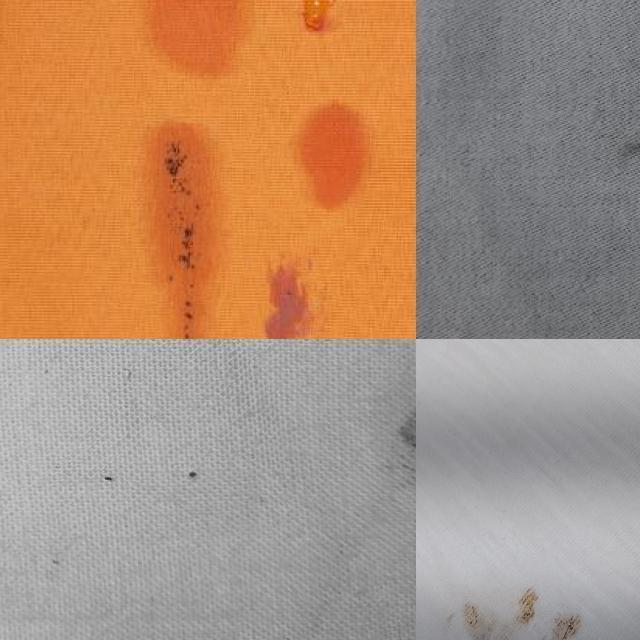Hole: (110, 0, 374, 339), (52, 420, 252, 586), (416, 545, 640, 640), (364, 374, 416, 491)
